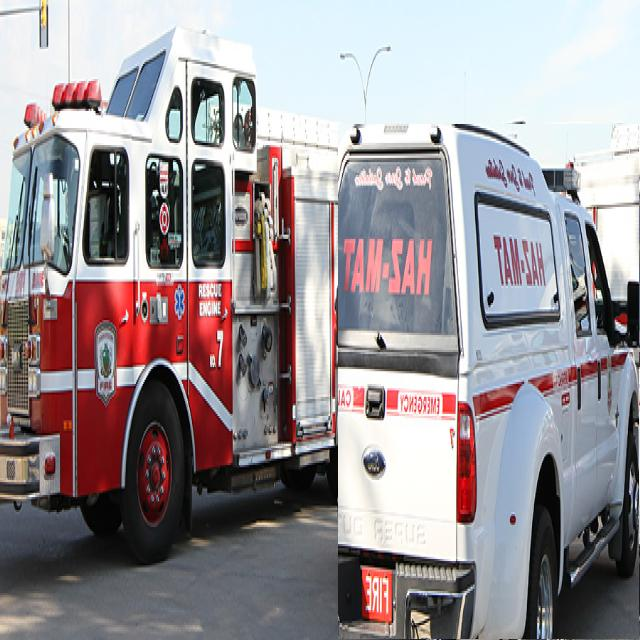emergency: (0, 30, 400, 562), (339, 124, 639, 639)
